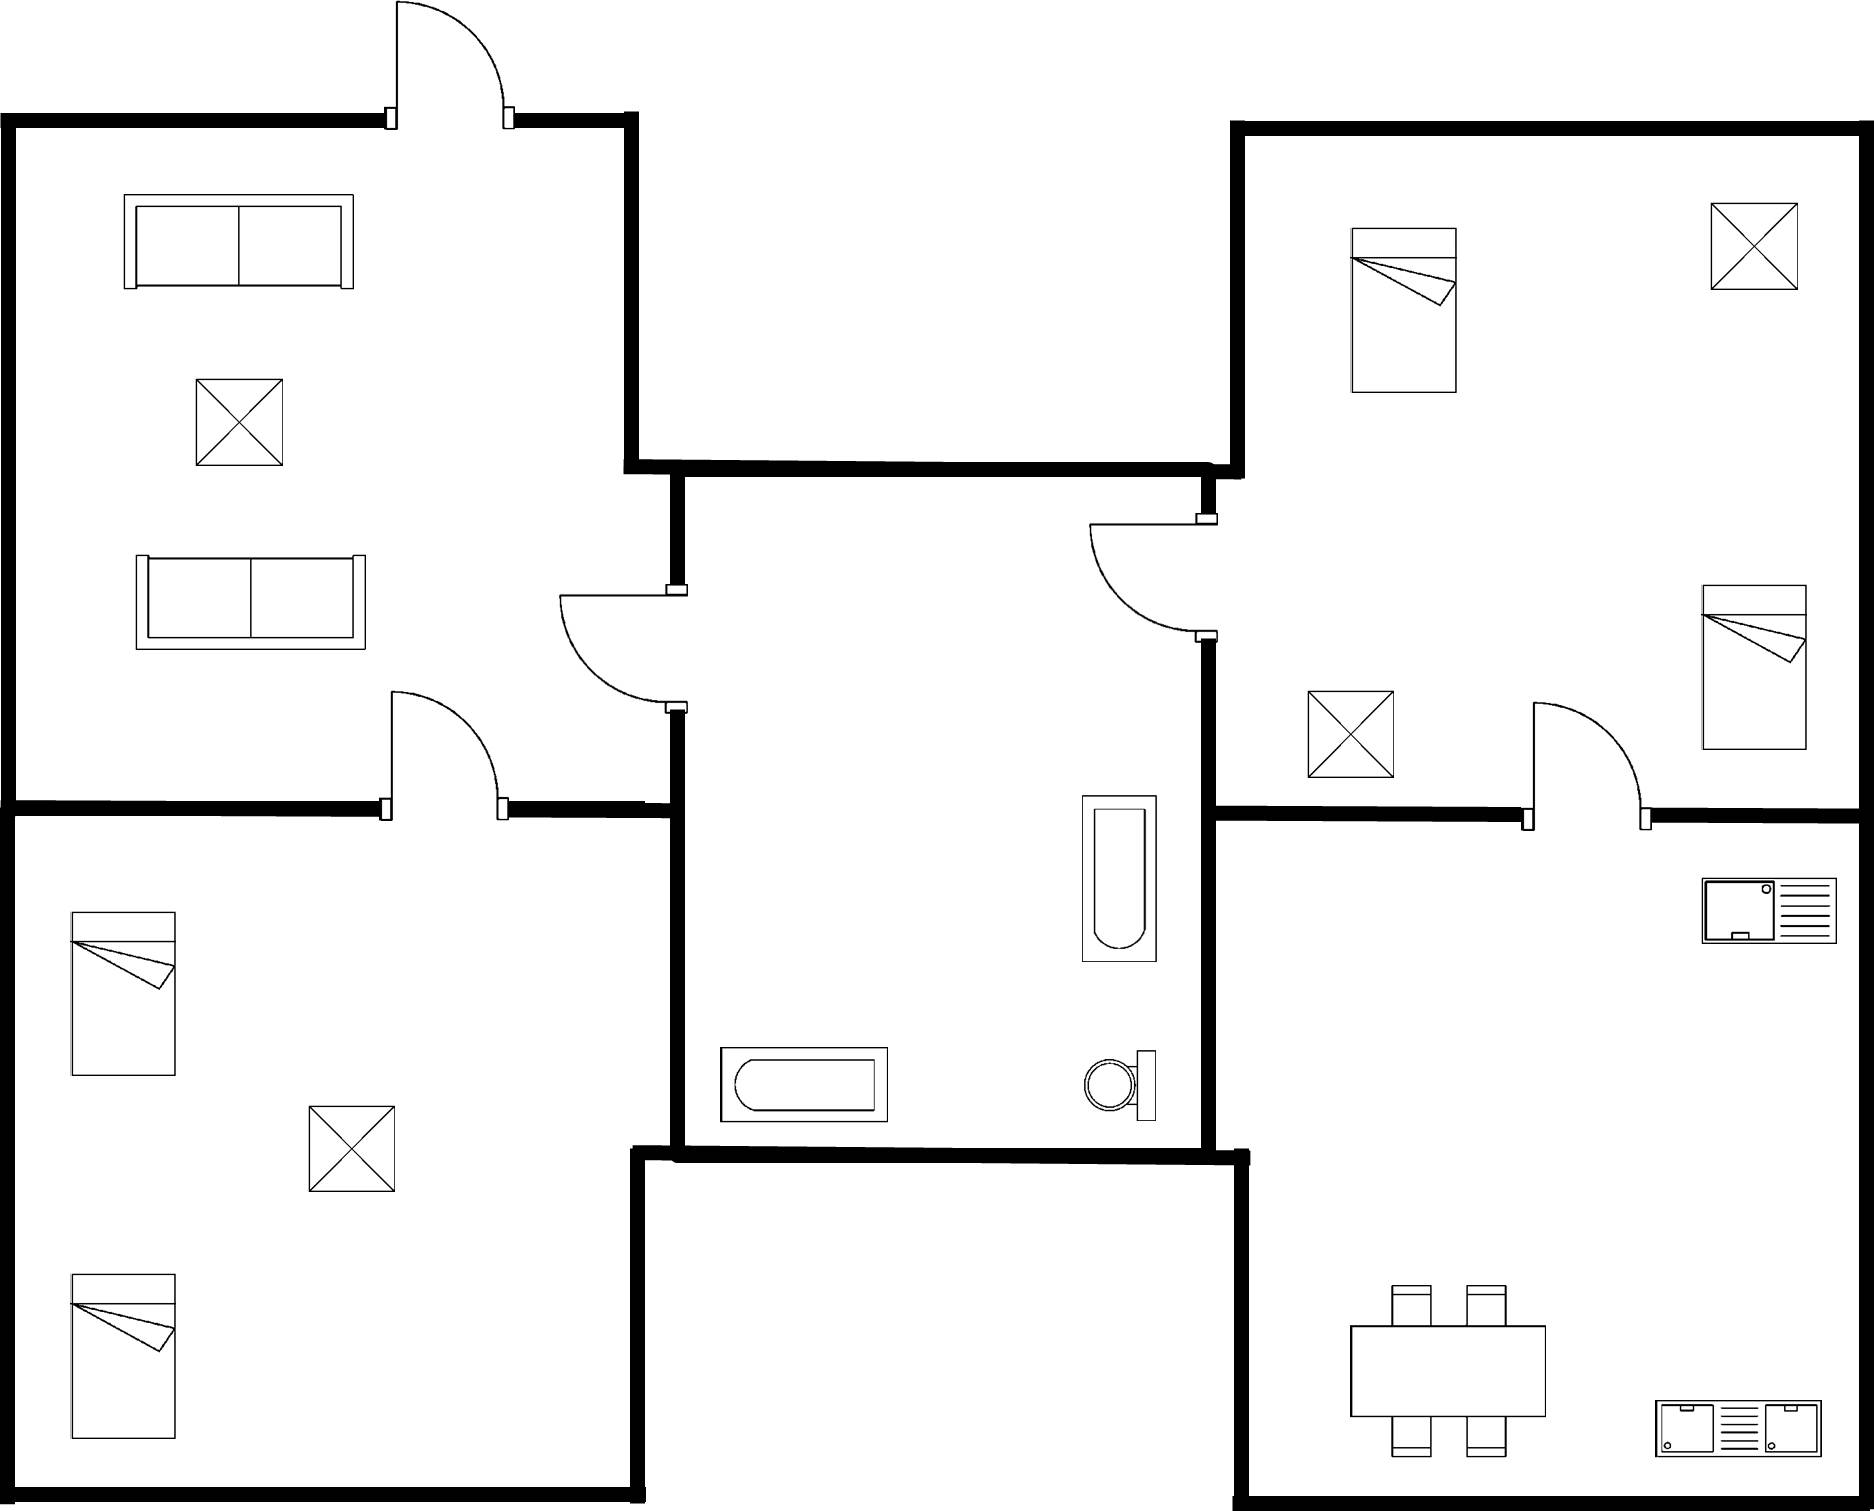bed: (1688, 572, 1819, 764), (1341, 220, 1472, 409), (60, 1261, 186, 1446), (60, 903, 186, 1086)
coffee_table: (1695, 193, 1811, 306), (294, 1093, 408, 1205), (1298, 675, 1405, 792), (182, 372, 295, 475)
dining_table: (1335, 1277, 1557, 1465)
large_sink: (1073, 1037, 1170, 1130)
large_sofa: (113, 181, 366, 303), (123, 546, 377, 661)
sink: (1688, 870, 1845, 959)
tub: (705, 1028, 904, 1134), (1069, 783, 1169, 981)
twin_sink: (1641, 1387, 1830, 1471)
